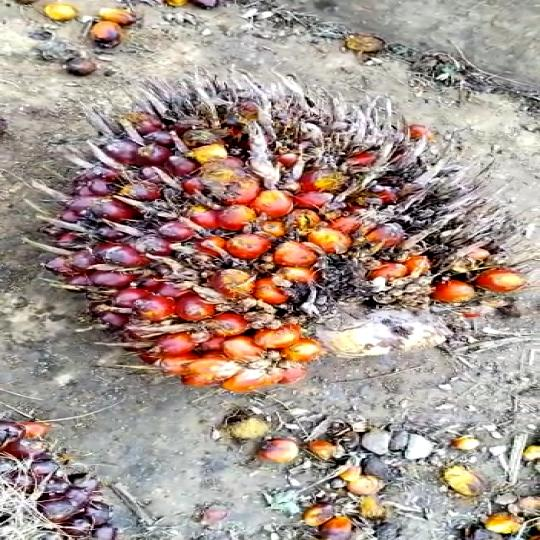masak: (53, 70, 540, 392)
